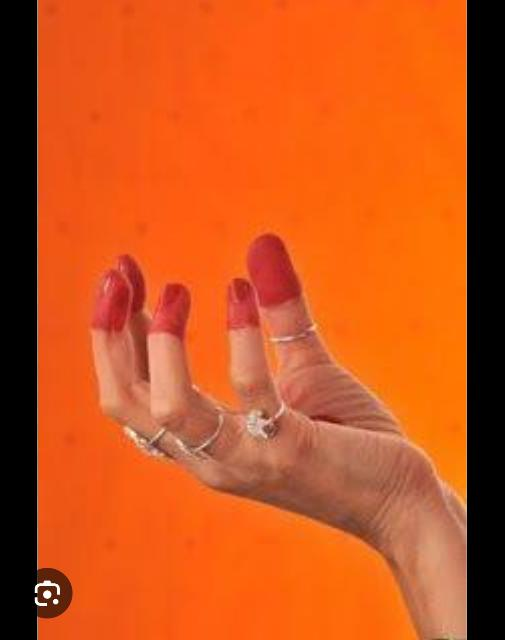padamkosh: (90, 232, 467, 640)
